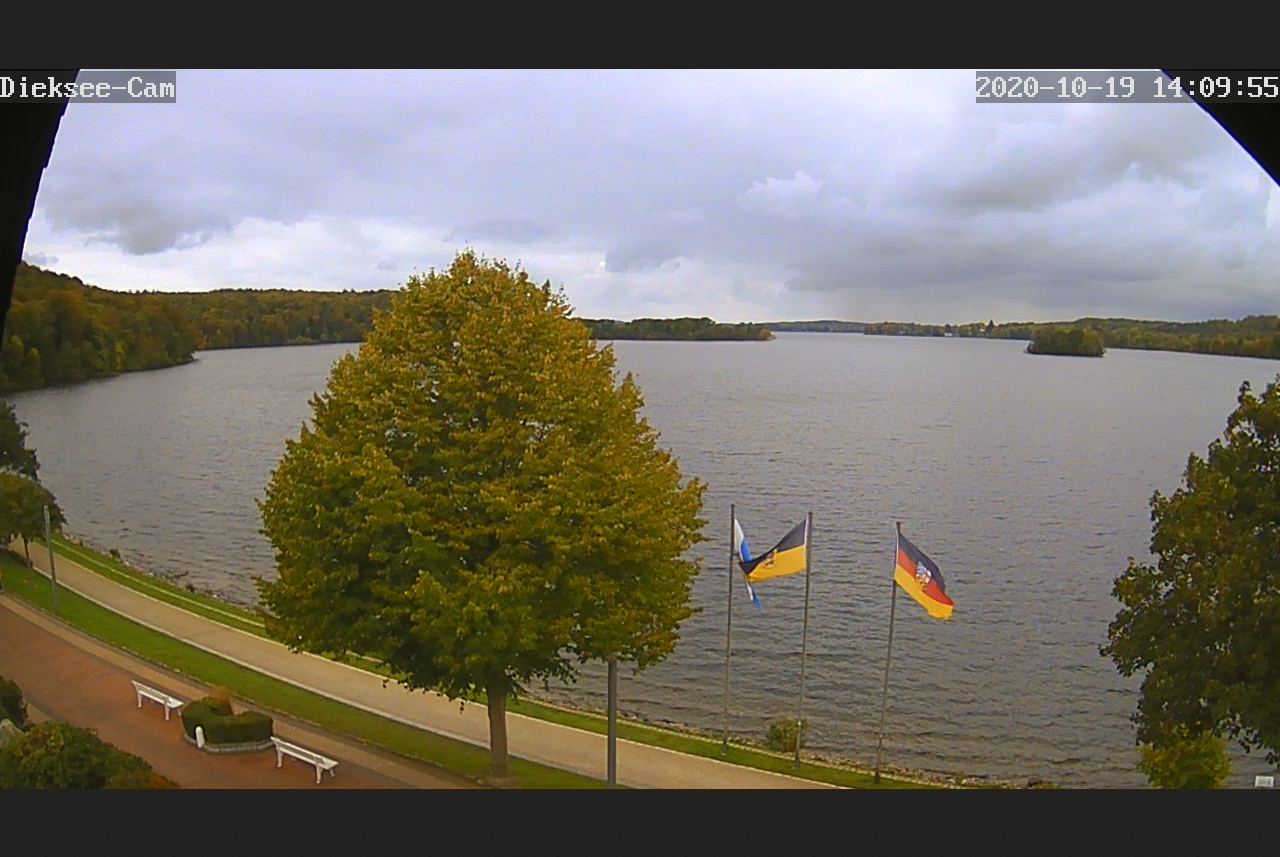maybe: (891, 520, 959, 627), (738, 508, 821, 582)
no: (726, 496, 769, 620)
